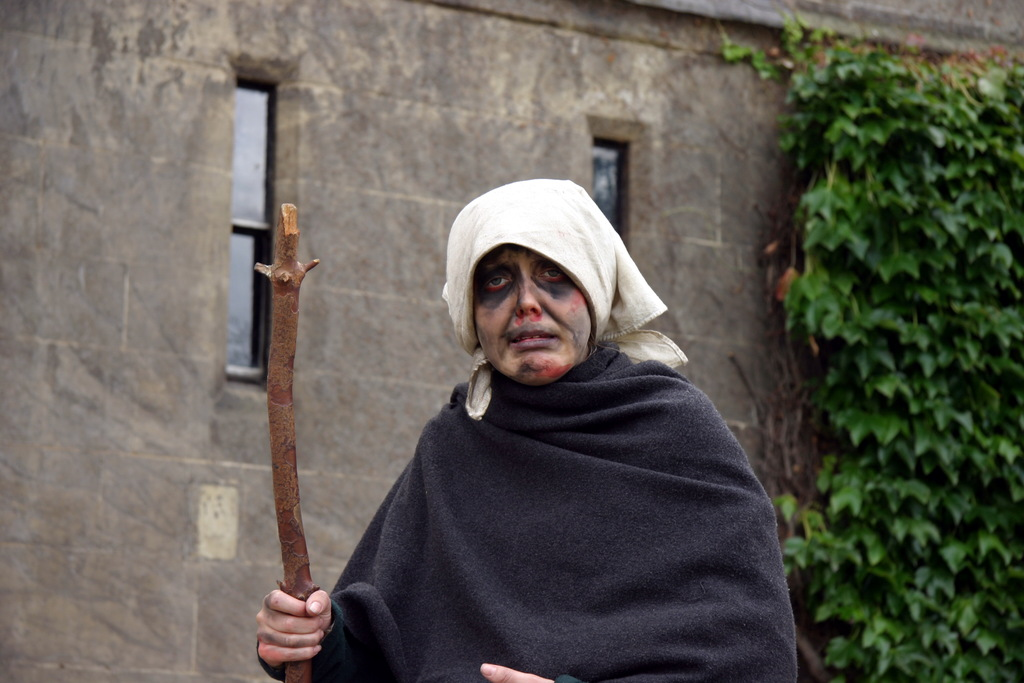Person: (255, 178, 800, 682)
